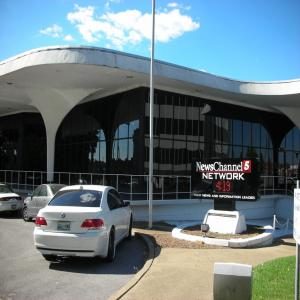Vehicle-registration-plate: (58, 222, 71, 231)
